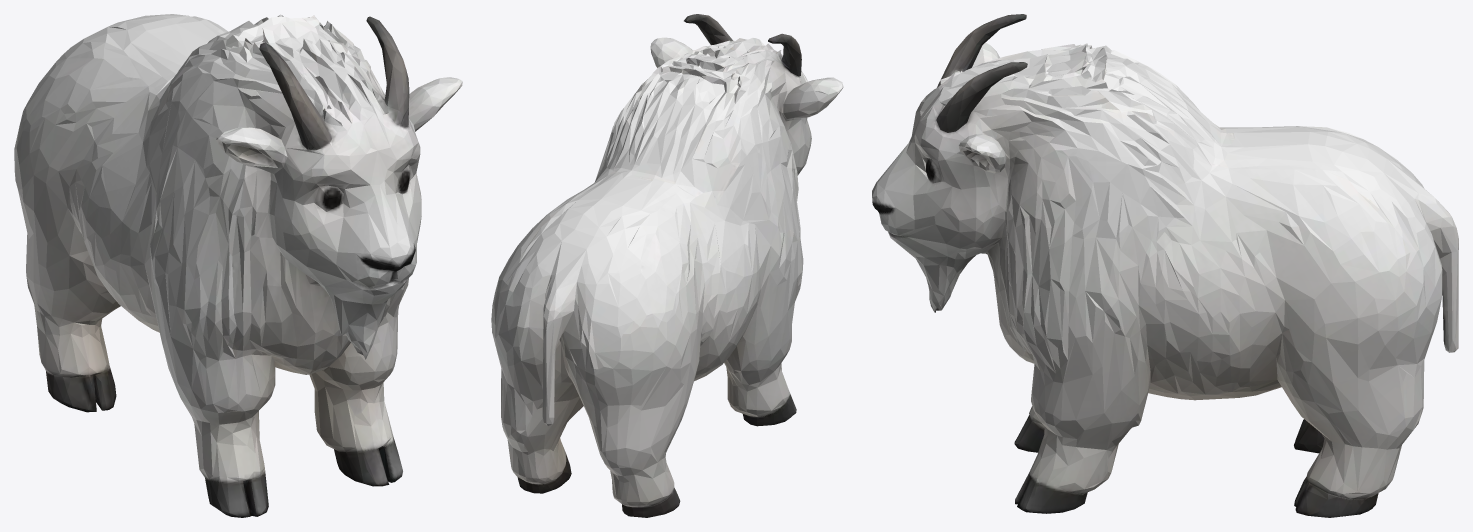
Rendered from mountain_goat.glb.
The picture shows the model from 3 angles, left to right: view 1: azimuth 30°, elevation 25°; view 2: azimuth 150°, elevation 25°; view 3: azimuth 270°, elevation 25°; orthographic projection. The views are drawn at different scales.
Parts seen in each view (by area): view 1: geometry_0; view 2: geometry_0; view 3: geometry_0.
Boxes of the visible parts, x1,y1,x2,y2 form: geometry_0: [14, 14, 462, 517]; geometry_0: [491, 14, 843, 517]; geometry_0: [872, 14, 1458, 517].
Size of the model in its own units: 0.4433 by 0.8253 by 0.9987.
Materials: 1 (1 with a texture image).
